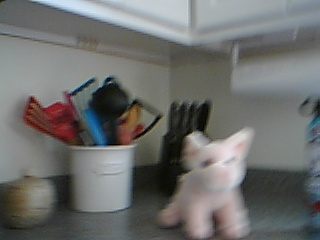piggy: (157, 126, 257, 239)
